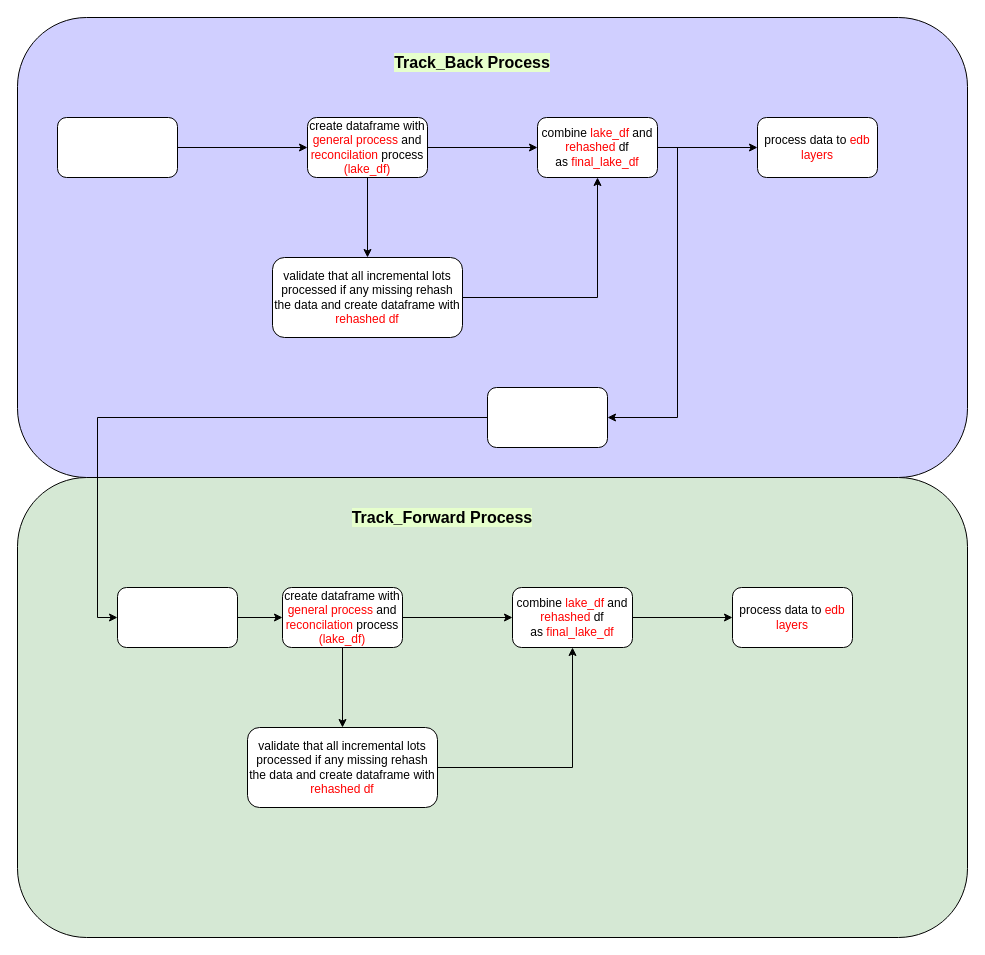
Image size: 985x955. Some labels were removed from this diagram. Here are the shapes that lost their labels. From the top down, the box of each, then its label:
(56, 116, 178, 178): Read incremental lots from f4111 and f4108
(486, 386, 608, 448): create temp table to store lots from final_lake_df
(116, 586, 238, 648): Read data from temp table
